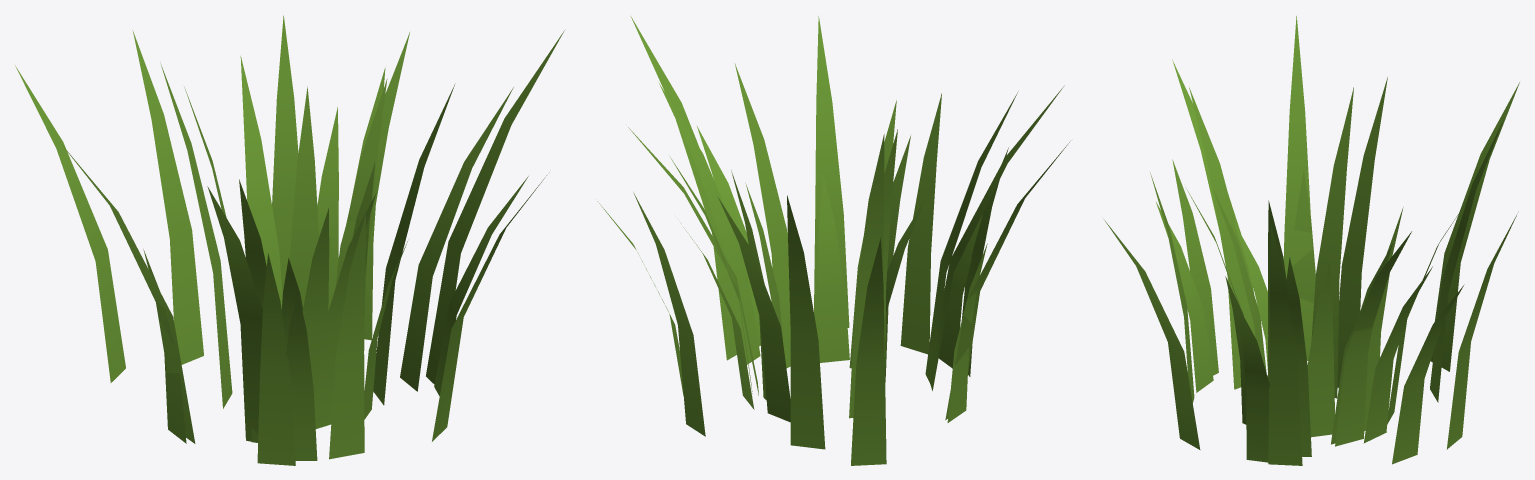
Rendered from PLANT_Grass_Tuft.glb.
3 views of the same model, side by side, from view 1: azimuth 30°, elevation 25°; view 2: azimuth 150°, elevation 25°; view 3: azimuth 270°, elevation 25° (orthographic). The views are drawn at different scales.
Visible parts, largest first — view 1: PLANT_Grass_Tuft; view 2: PLANT_Grass_Tuft; view 3: PLANT_Grass_Tuft.
Part boxes in pixels (x1,y1,x2,y2): PLANT_Grass_Tuft: (15,15,564,465); PLANT_Grass_Tuft: (597,16,1069,465); PLANT_Grass_Tuft: (1104,16,1519,465).
Size of the model in its own units: 0.5867 by 0.3795 by 0.4857.
